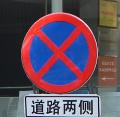No Parking: (23, 14, 100, 94)
